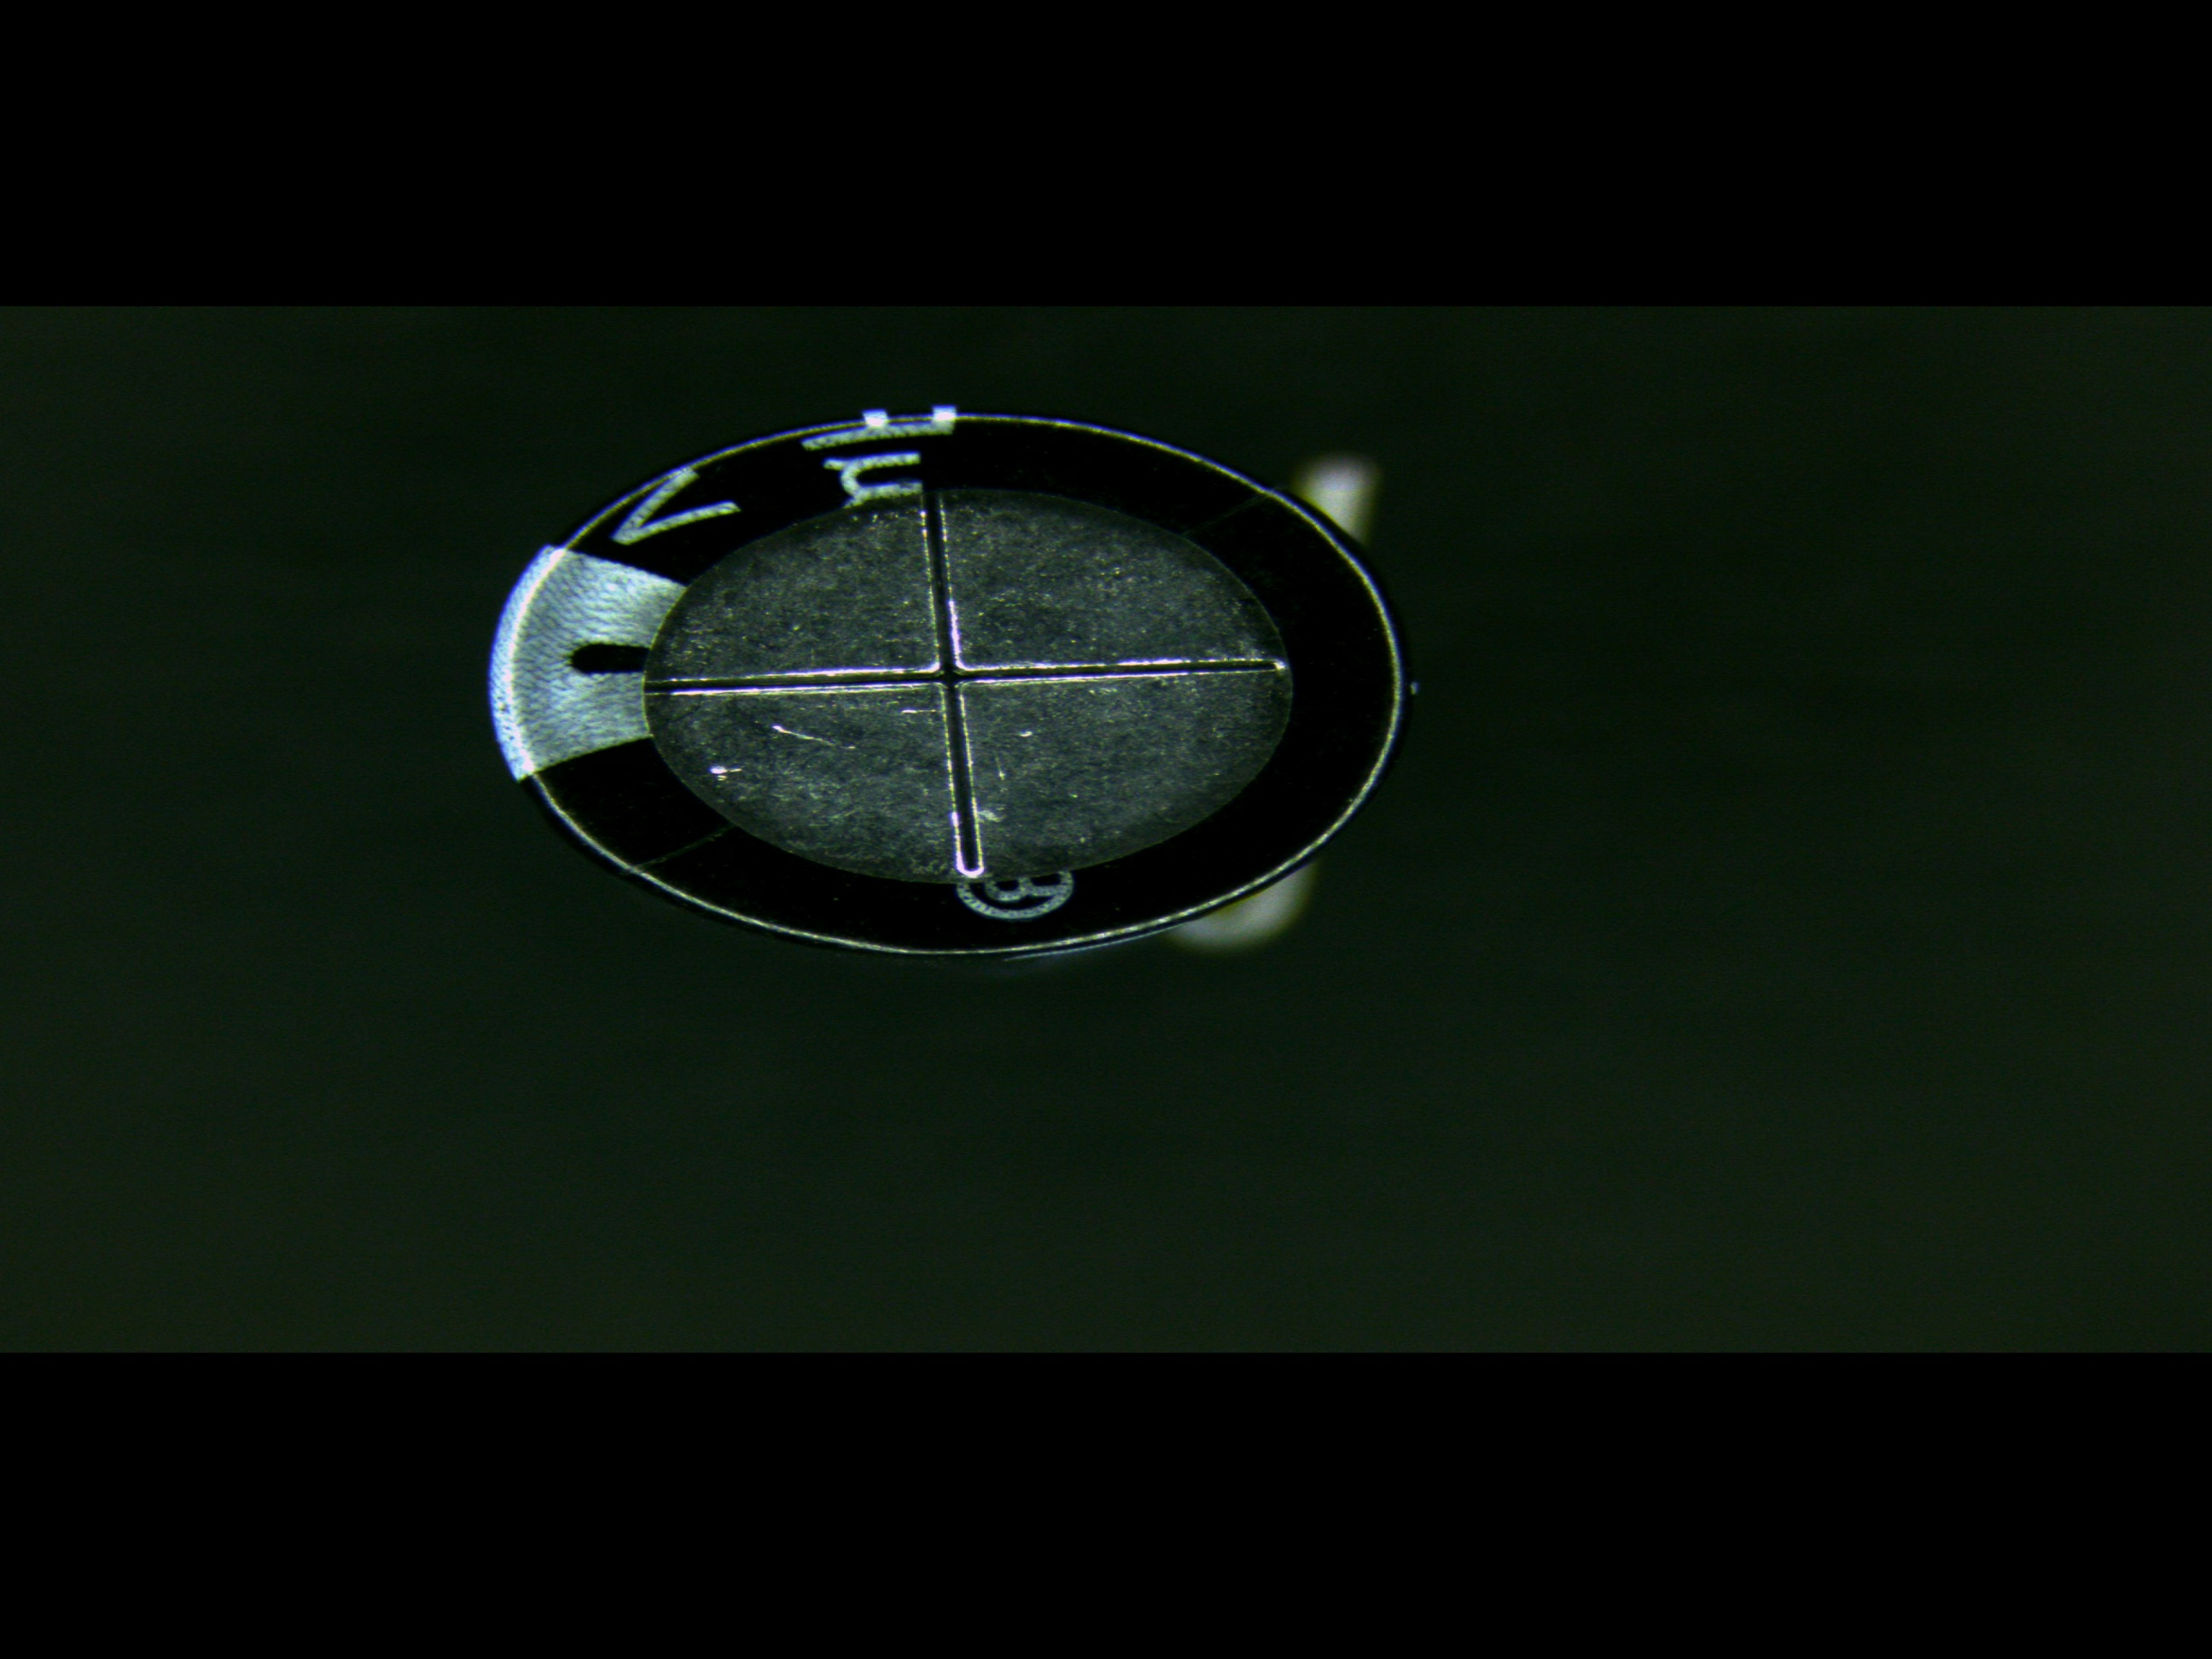c3: (482, 392, 1407, 962)
